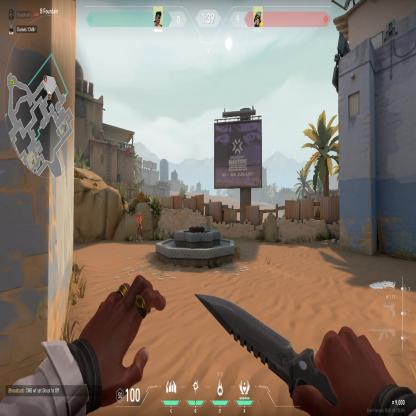enemy: (135, 211, 144, 243)
